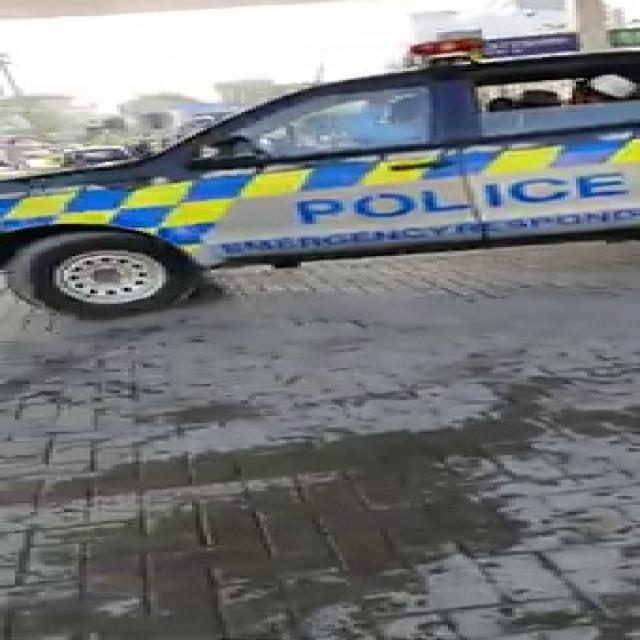police: (0, 0, 640, 290)
